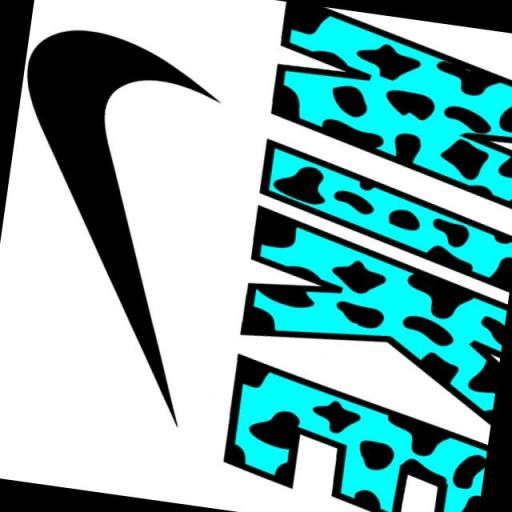Nike: (0, 20, 234, 434)
